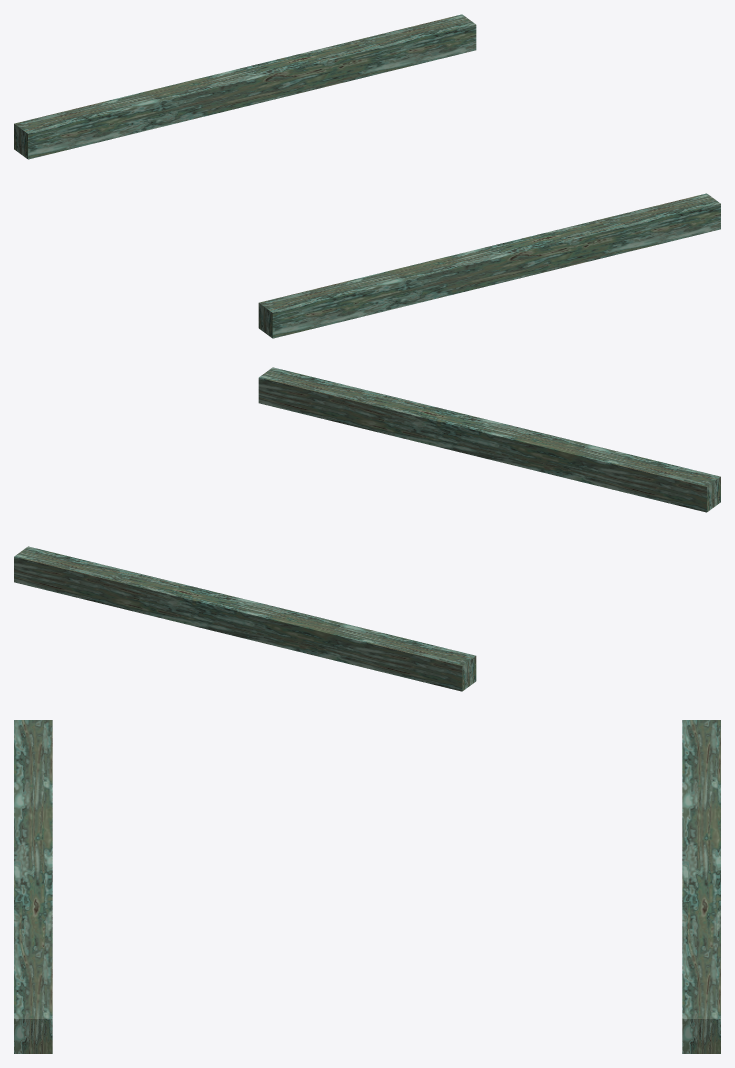
The model's file is BrokenFloor_Base.FBX.
3 renders of one model, top to bottom at view 1: azimuth 30°, elevation 25°; view 2: azimuth 150°, elevation 25°; view 3: azimuth 270°, elevation 25°, orthographic. The views are drawn at different scales.
Visible parts, largest first — view 1: Object044; view 2: Object044; view 3: Object044.
Boxes of the visible parts, left/top/right/bottom form: Object044: left=14, top=14, right=720, bottom=338; Object044: left=14, top=367, right=720, bottom=691; Object044: left=14, top=720, right=720, bottom=1053.
Bounding box in the file's own units: 200 × 10.92 × 200.
